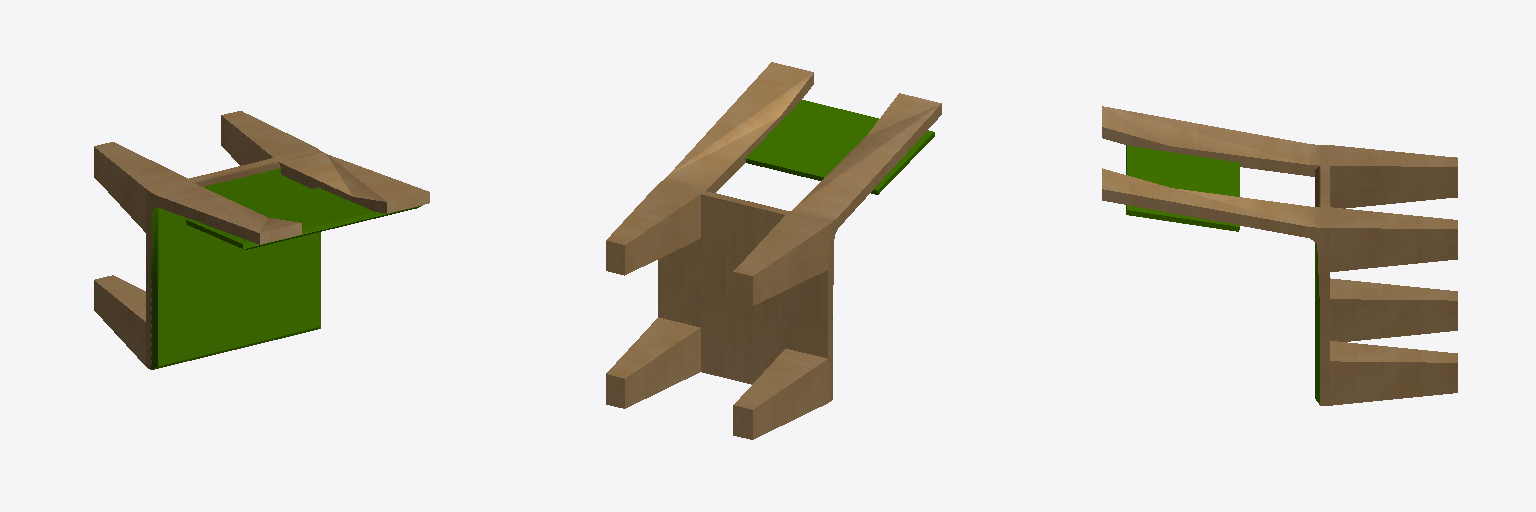
3 views of the same model, side by side, from view 1: azimuth 30°, elevation 25°; view 2: azimuth 150°, elevation 25°; view 3: azimuth 270°, elevation 25° (orthographic).
Visible parts, largest first — view 1: Box001; view 2: Box001; view 3: Box001.
Part boxes in pixels (left/top/right/bottom): Box001: left=94, top=111, right=429, bottom=369; Box001: left=606, top=62, right=941, bottom=439; Box001: left=1102, top=106, right=1457, bottom=405.
Size of the model in its own units: 21.11 by 24.36 by 36.17.
Materials: 1 (1 with a texture image).